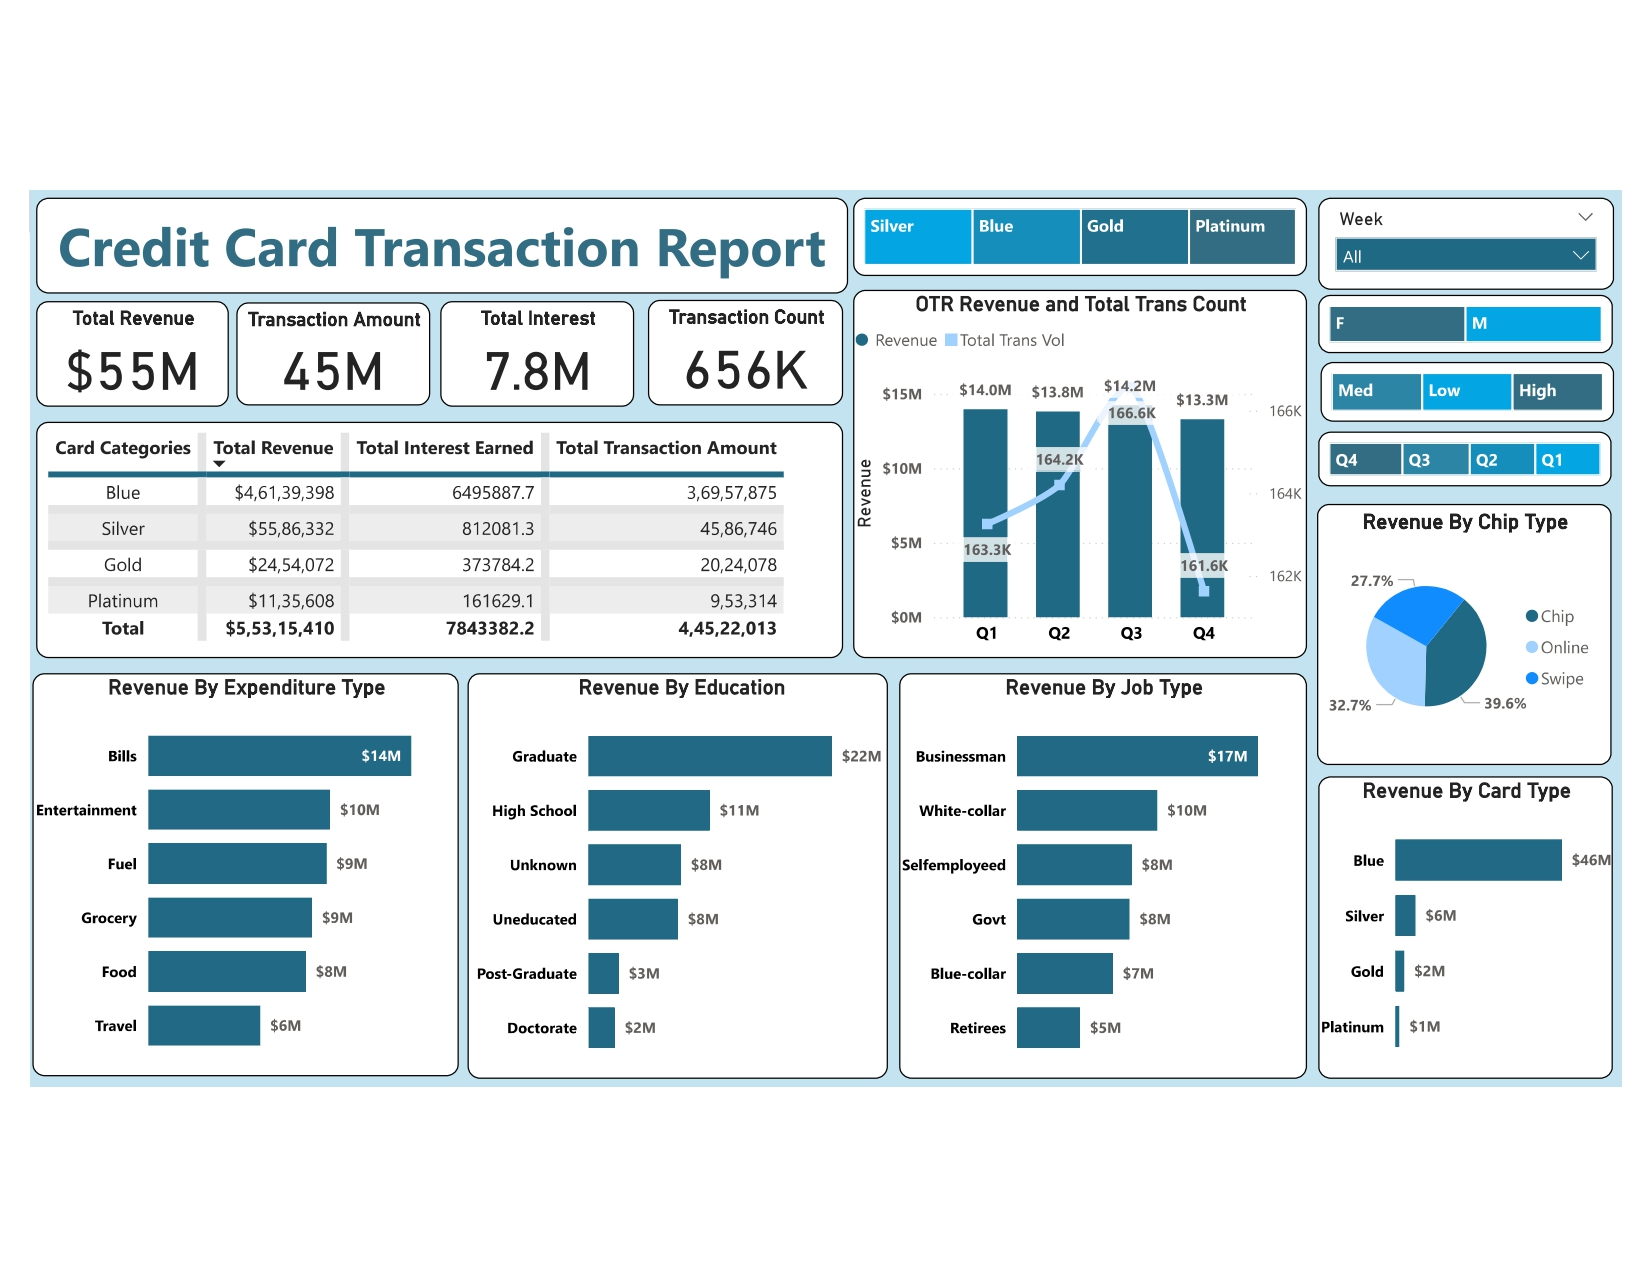

Layout of this report page (visuals, bound fields, positions):
{"tool":"powerbi","page":{"name":"CC Transaction","canvas":[1280,720],"ordinal":0},"visuals":[{"type":"textbox","box":[4.8,5.9,653.2,77.3],"z":0},{"type":"lineStackedColumnComboChart","title":"OTR Revenue and Total Trans Count","fields":{"Category":["credit_card1.Qtr"],"Y":["Sum(credit_card1.Revenue)"],"Y2":["Sum(credit_card1.Total_Trans_Vol)"]},"box":[661.5,79.7,365.3,296.3],"z":1000},{"type":"barChart","title":"Revenue By Expenditure Type","fields":{"Y":["Sum(credit_card1.Revenue)"],"Category":["credit_card1.Exp Type"]},"box":[2.2,388.5,342.9,323.9],"z":2000},{"type":"barChart","title":"Revenue By Education","fields":{"Y":["Sum(credit_card1.Revenue)"],"Category":["customer1.Education_Level"]},"box":[352.3,388.5,337.8,325.7],"z":3000},{"type":"barChart","title":"Revenue By Job Type","fields":{"Y":["Sum(credit_card1.Revenue)"],"Category":["customer1.Customer_Job","customer1.Education_Level"]},"box":[698.5,388.5,328.2,325.7],"z":4000},{"type":"barChart","title":"Revenue By Card Type","fields":{"Y":["Sum(credit_card1.Revenue)"],"Category":["credit_card1.Card_Category"]},"box":[1036.3,470.5,236.5,243.7],"z":5000},{"type":"pieChart","title":"Revenue By Chip Type","fields":{"Category":["credit_card1.Use Chip"],"Y":["Avg(credit_card1.Revenue)"]},"box":[1035.1,252.1,236.5,209.9],"z":6000},{"type":"tableEx","fields":{"Values":["credit_card1.Card_Category","Sum(credit_card1.Revenue)","Sum(credit_card1.Interest_Earned)","Sum(credit_card1.Total_Trans_Amt)"]},"box":[4.8,185.8,649.1,190.6],"z":7000},{"type":"card","title":"Total Revenue","fields":{"Values":["Sum(credit_card1.Revenue)"]},"box":[4.8,89.3,155.6,84.5],"z":8000},{"type":"card","title":"Transaction Amount","fields":{"Values":["Sum(credit_card1.Total_Trans_Amt)"]},"box":[166.3,89.5,155.8,83.7],"z":9000},{"type":"card","title":"Total Interest","fields":{"Values":["Sum(credit_card1.Interest_Earned)"]},"box":[329.5,89.1,157,84.6],"z":10000},{"type":"card","title":"Transaction Count","fields":{"Values":["Sum(credit_card1.Total_Trans_Vol)"]},"box":[497.1,88.1,156.8,84.5],"z":11000},{"type":"slicer","fields":{"Values":["credit_card1.Week_Start_Date"]},"box":[1036.3,5.9,238,73.8],"z":12000},{"type":"treemap","fields":{"Group":["credit_card1.Qtr"],"Values":["Avg(credit_card1.Client_Num)"]},"box":[1036.3,193.9,235.6,44],"z":13000},{"type":"treemap","fields":{"Values":["Avg(credit_card1.Client_Num)"],"Group":["customer1.Gender"]},"box":[1036.3,84.5,236.8,46.4],"z":14000},{"type":"treemap","fields":{"Group":["credit_card1.Card_Category"],"Values":["Avg(credit_card1.Client_Num)"]},"box":[661.5,5.9,365.3,63.1],"z":15000},{"type":"treemap","fields":{"Group":["customer1.Income_Group"],"Values":["Avg(credit_card1.Client_Num)"]},"box":[1037.5,138,236.8,47.6],"z":16000}]}

Visuals, with their boxes on the page's 1280x720 design canvas (x1, y1, x2, y2). These are canvas units, not pixel positions in the 1650x1275 screenshot, which may show the page scaled, cropped or inside an application window:
textbox: [left=5, top=6, right=658, bottom=83]
"OTR Revenue and Total Trans Count" lineStackedColumnComboChart: [left=662, top=80, right=1027, bottom=376]
"Revenue By Expenditure Type" barChart: [left=2, top=388, right=345, bottom=712]
"Revenue By Education" barChart: [left=352, top=388, right=690, bottom=714]
"Revenue By Job Type" barChart: [left=698, top=388, right=1027, bottom=714]
"Revenue By Card Type" barChart: [left=1036, top=470, right=1273, bottom=714]
"Revenue By Chip Type" pieChart: [left=1035, top=252, right=1272, bottom=462]
tableEx - credit_card1.Card_Category x Sum(credit_card1.Revenue): [left=5, top=186, right=654, bottom=376]
"Total Revenue" card: [left=5, top=89, right=160, bottom=174]
"Transaction Amount" card: [left=166, top=90, right=322, bottom=173]
"Total Interest" card: [left=330, top=89, right=486, bottom=174]
"Transaction Count" card: [left=497, top=88, right=654, bottom=173]
slicer - credit_card1.Week_Start_Date: [left=1036, top=6, right=1274, bottom=80]
treemap - credit_card1.Qtr x Avg(credit_card1.Client_Num): [left=1036, top=194, right=1272, bottom=238]
treemap - Avg(credit_card1.Client_Num) x customer1.Gender: [left=1036, top=84, right=1273, bottom=131]
treemap - credit_card1.Card_Category x Avg(credit_card1.Client_Num): [left=662, top=6, right=1027, bottom=69]
treemap - customer1.Income_Group x Avg(credit_card1.Client_Num): [left=1038, top=138, right=1274, bottom=186]
